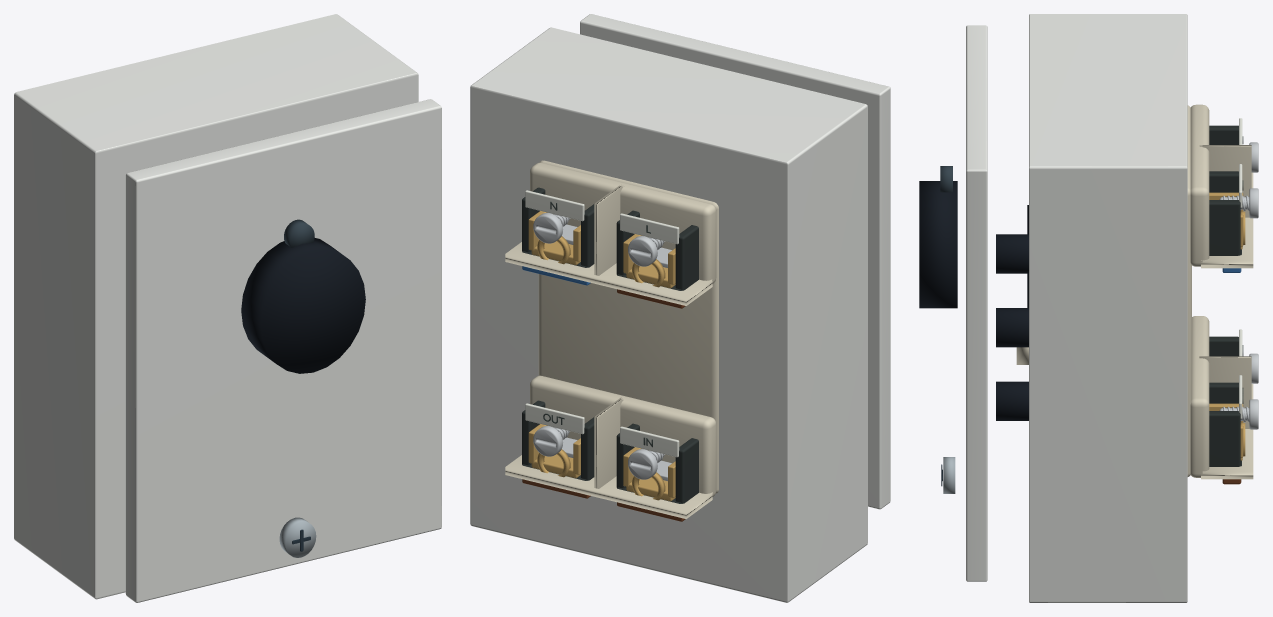
File: sensor_mode_photocell.glb
3 renders of one model, left to right at view 1: azimuth 30°, elevation 25°; view 2: azimuth 150°, elevation 25°; view 3: azimuth 270°, elevation 25°, orthographic. The views are drawn at different scales.
Visible parts, largest first — view 1: part:cover, part:body, part:sensing, part:body.001; view 2: part:body, part:terminals · Original 5a609f27, part:cover, detail:terminal-clamp:L · Detail moulded engineering polymer, detail:terminal-clamp:IN · Detail moulded engineering polyme, detail:terminal-clamp:OUT · Detail moulded engineering polym, detail:terminal-clamp:N · Detail moulded engineering polymer, detail:terminal-clamp:N · Detail machined brass, detail:terminal-clamp:OUT · Detail machined brass, detail:terminal-clamp:IN · Detail machined brass, detail:terminal-clamp:L · Detail machined brass, Moulded terminal legend pad (+7 smaller); view 3: part:body, part:cover, part:terminals · Original 5a609f27, part:sensing, part:electronics · Original 3ff2d46d, detail:terminal-clamp:OUT · Detail moulded engineering polym, detail:terminal-clamp:N · Detail moulded engineering polymer, detail:terminal-clamp:IN · Detail moulded engineering polyme, detail:terminal-clamp:L · Detail moulded engineering polymer, detail:terminal-clamp:N · Detail zinc plated fixing, detail:terminal-clamp:OUT · Detail zinc plated fixing.
Part boxes in pixels (x1,y1,x2,y2): part:cover: (125, 99, 441, 602); part:body: (14, 14, 418, 599); part:sensing: (241, 238, 365, 373); part:body.001: (284, 219, 314, 247); part:body: (470, 27, 867, 602); part:terminals · Original 5a609f27: (505, 160, 718, 518); part:cover: (580, 14, 890, 509); detail:terminal-clamp:L · Detail moulded engineering polymer: (616, 210, 698, 290); detail:terminal-clamp:IN · Detail moulded engineering polyme: (616, 423, 698, 503); detail:terminal-clamp:OUT · Detail moulded engineering polym: (522, 400, 594, 480); detail:terminal-clamp:N · Detail moulded engineering polymer: (522, 187, 594, 267); detail:terminal-clamp:N · Detail machined brass: (528, 211, 580, 265); detail:terminal-clamp:OUT · Detail machined brass: (528, 424, 580, 478); detail:terminal-clamp:IN · Detail machined brass: (623, 447, 675, 501); detail:terminal-clamp:L · Detail machined brass: (623, 234, 675, 288); Moulded terminal legend pad: (620, 213, 679, 244); part:body: (1029, 14, 1187, 602); part:cover: (943, 25, 987, 581); part:terminals · Original 5a609f27: (1187, 104, 1253, 479); part:sensing: (919, 181, 957, 308); part:electronics · Original 3ff2d46d: (996, 205, 1028, 420); detail:terminal-clamp:OUT · Detail moulded engineering polym: (1209, 382, 1241, 466); detail:terminal-clamp:N · Detail moulded engineering polymer: (1209, 171, 1241, 255); detail:terminal-clamp:IN · Detail moulded engineering polyme: (1209, 336, 1238, 356); detail:terminal-clamp:L · Detail moulded engineering polymer: (1209, 125, 1238, 144); detail:terminal-clamp:N · Detail zinc plated fixing: (1219, 188, 1258, 218); detail:terminal-clamp:OUT · Detail zinc plated fixing: (1219, 399, 1258, 429).
Size of the model in its own units: 0.6262 by 0.8286 by 0.5832.
